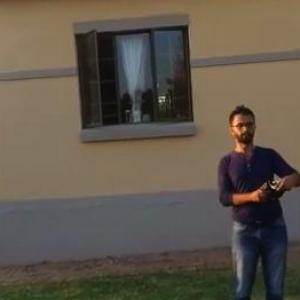follow: (212, 93, 300, 299)
